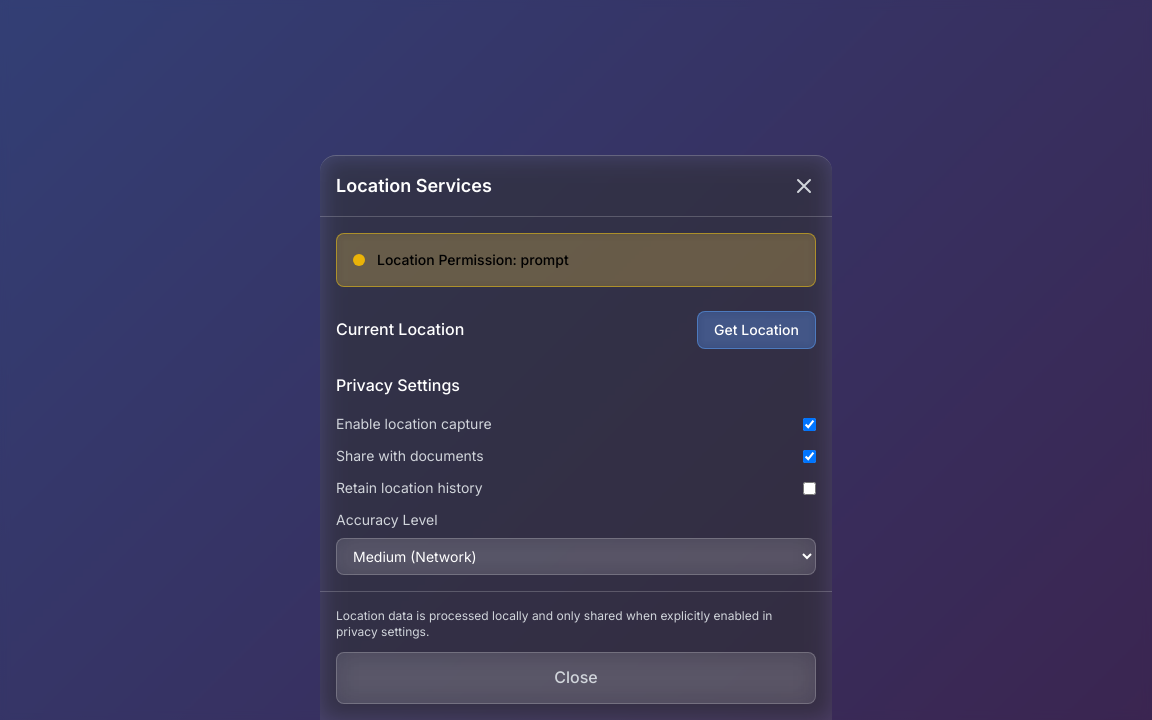
LocationManager › captures location when Get Location button is clicked
Click the button "Get Location": point(757, 330) [697, 311, 816, 349]
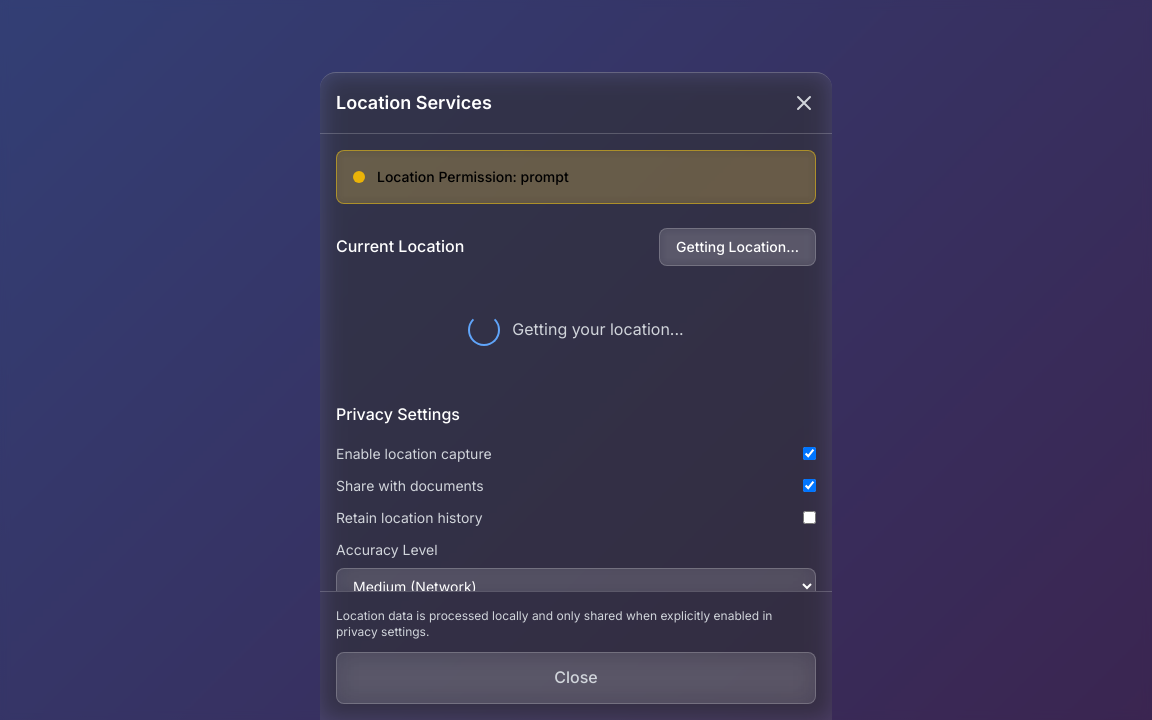
Expected: the button "Getting Location..." is shown, [659, 228, 816, 266]
